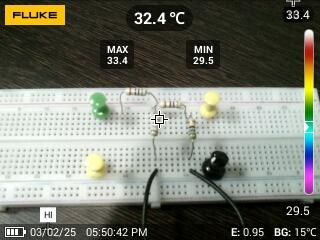resistor: (157, 97, 186, 112), (185, 116, 201, 143), (122, 83, 150, 98), (150, 115, 162, 142)
